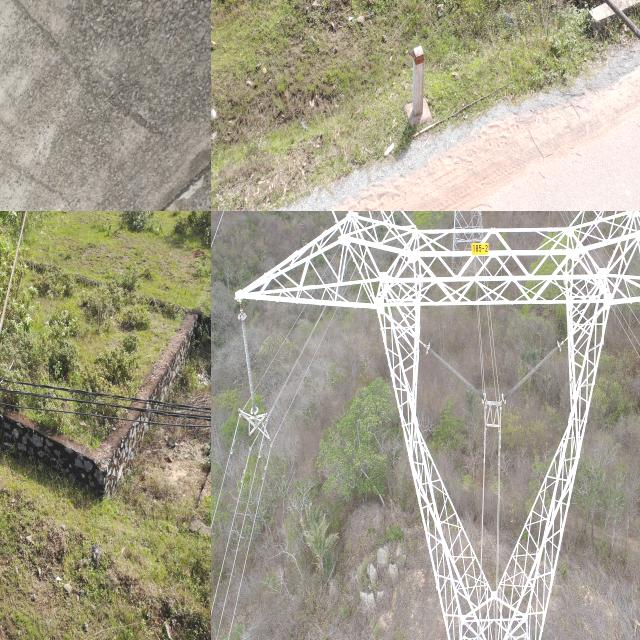杆塔: (221, 211, 640, 640)
正常电缆: (213, 441, 266, 640), (225, 443, 276, 640), (211, 442, 255, 632), (211, 412, 244, 565)
正常绝缘子: (500, 338, 563, 407), (424, 342, 486, 405), (230, 318, 263, 419)
